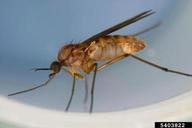Fruit fly: (26, 19, 169, 114)
